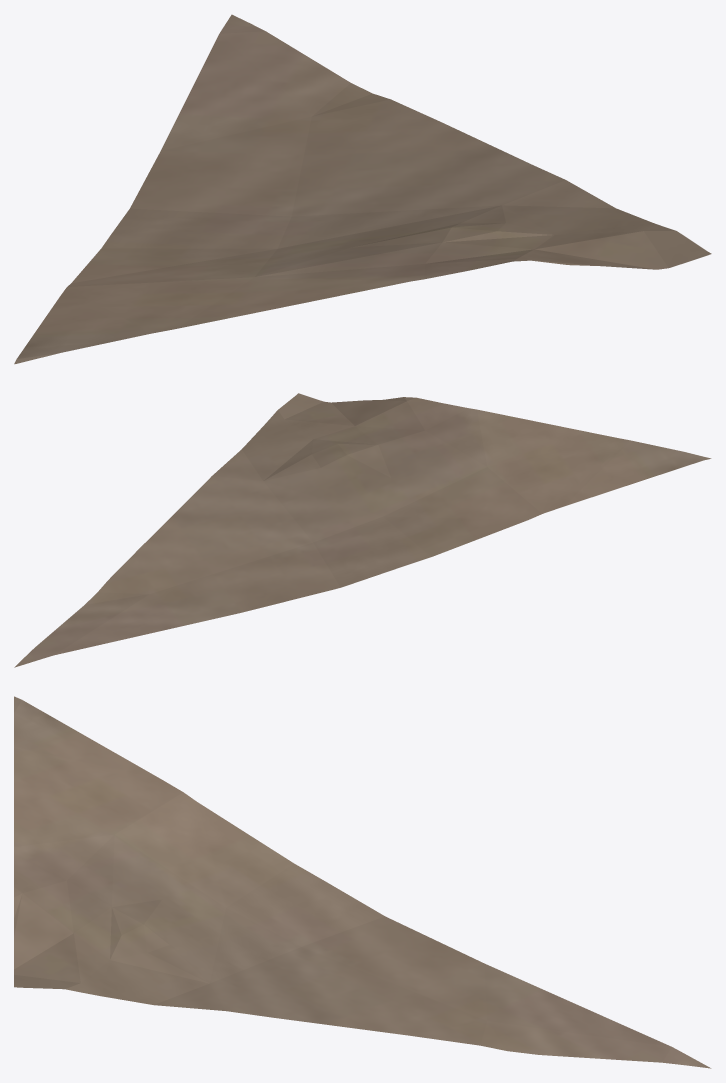
3 views of the same model, one above another, from view 1: azimuth 30°, elevation 25°; view 2: azimuth 150°, elevation 25°; view 3: azimuth 270°, elevation 25° (orthographic). The views are drawn at different scales.
Bounding box in the file's own units: 0.9732 × 0.229 × 1.16.
Materials: 1 (1 with a texture image).
